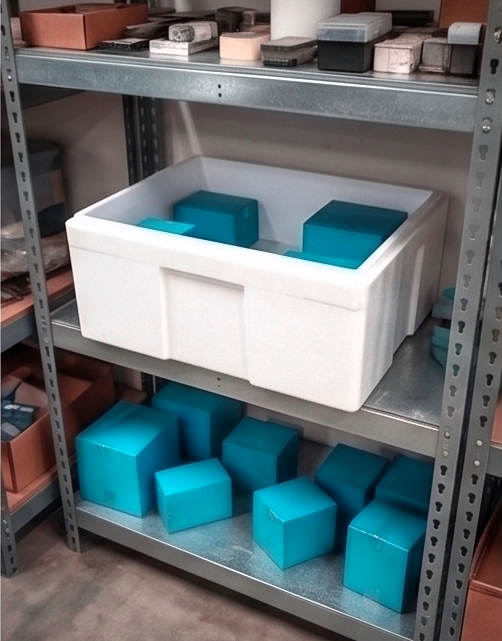blue_box: (77, 398, 184, 517), (344, 501, 429, 613), (252, 474, 338, 570), (152, 379, 245, 462), (317, 443, 394, 536), (303, 197, 411, 261), (156, 454, 234, 535), (222, 415, 303, 492), (174, 190, 261, 248), (375, 451, 437, 521), (283, 248, 363, 270), (136, 217, 197, 241)
container_box: (67, 152, 450, 414)
